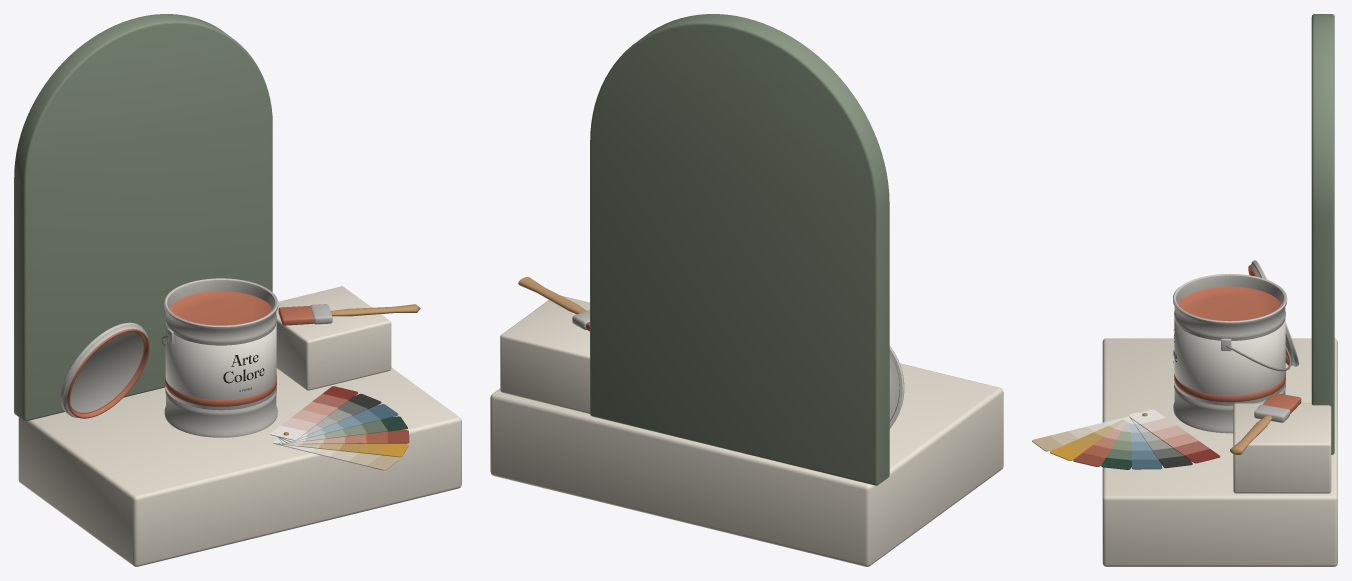
File: hero.glb
3 renders of one model, left to right at view 1: azimuth 30°, elevation 25°; view 2: azimuth 150°, elevation 25°; view 3: azimuth 270°, elevation 25°, orthographic. The views are drawn at different scales.
Parts seen in each view (by area): view 1: Arch, Plinth, Step, TinBody, TinLabel, Lid, TinPaint, Card_6, LidPaint, Card_0, Card_2, Card_1 (+6 smaller); view 2: Arch, Plinth, Step, Lid, BrushHandle; view 3: Plinth, Arch, Step, TinLabel, TinBody, TinPaint, Card_6, Card_5, Card_4, Card_0, Card_3, Card_2 (+6 smaller).
Part boxes in pixels (x1,y1,x2,y2): Arch: (14, 14, 272, 421); Plinth: (18, 367, 461, 566); Step: (276, 286, 391, 390); TinBody: (164, 278, 278, 437); TinLabel: (165, 322, 276, 410); Lid: (61, 322, 147, 417); TinPaint: (169, 291, 272, 325); Card_6: (270, 386, 357, 440); LidPaint: (67, 328, 149, 418); Card_0: (273, 438, 399, 470); Card_2: (278, 430, 409, 444); Card_1: (275, 438, 408, 457); Arch: (590, 14, 889, 485); Plinth: (490, 363, 1003, 566); Step: (500, 295, 589, 413); Lid: (889, 346, 904, 428); BrushHandle: (518, 277, 586, 314); Plinth: (1102, 338, 1337, 566); Arch: (1311, 14, 1334, 454); Step: (1233, 403, 1331, 493); TinLabel: (1174, 317, 1285, 405); TinBody: (1173, 273, 1287, 433); TinPaint: (1178, 286, 1281, 320); Card_6: (1129, 409, 1220, 463); Card_5: (1129, 413, 1192, 468); Card_4: (1130, 413, 1162, 469); Card_0: (1032, 416, 1128, 451); Card_3: (1101, 413, 1136, 469); Card_2: (1073, 412, 1137, 466).
Size of the model in its own units: 0.6317 by 0.74 by 0.4678.
